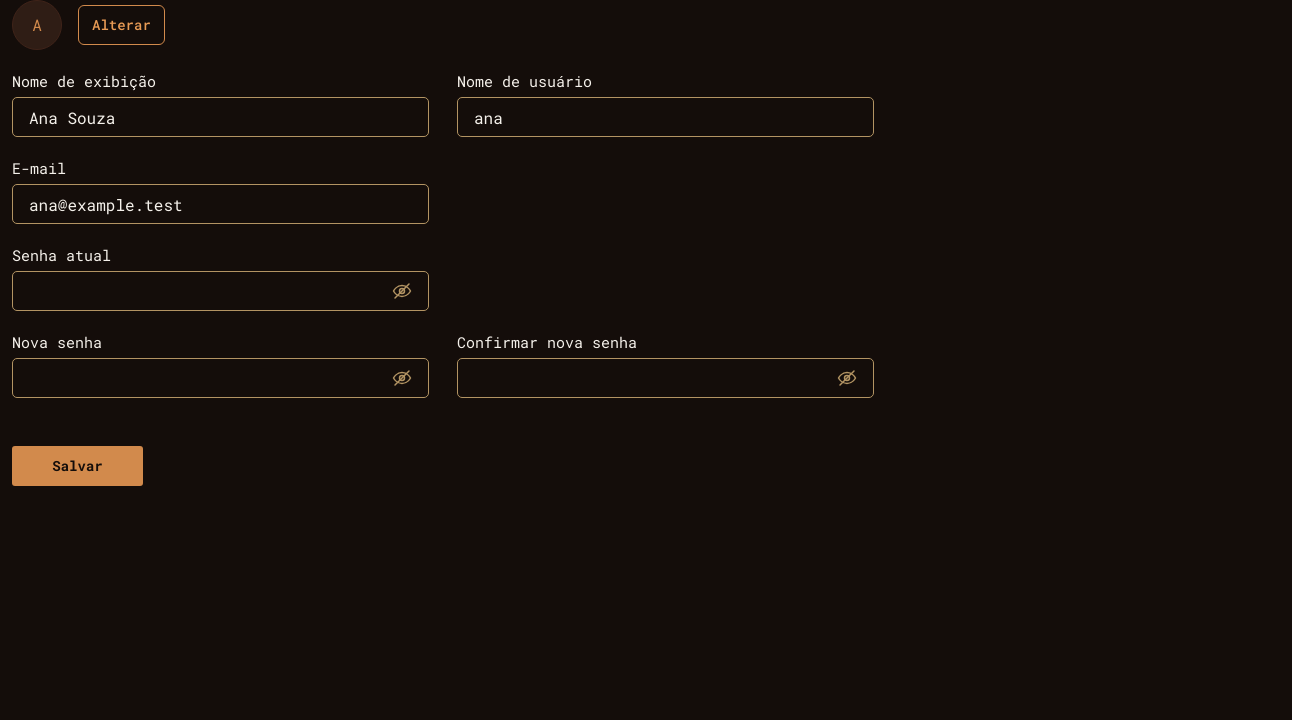
Test case: ProfileEditor (pt-BR) › falha de rede mostra alerta e mantem os valores digitados
This screenshot has width=1292, height=720.
Replace the text in the field labelled "Nome de exibição" with "Ana Maria" at point(220, 117), box x1=29 y1=106 x2=412 y2=128
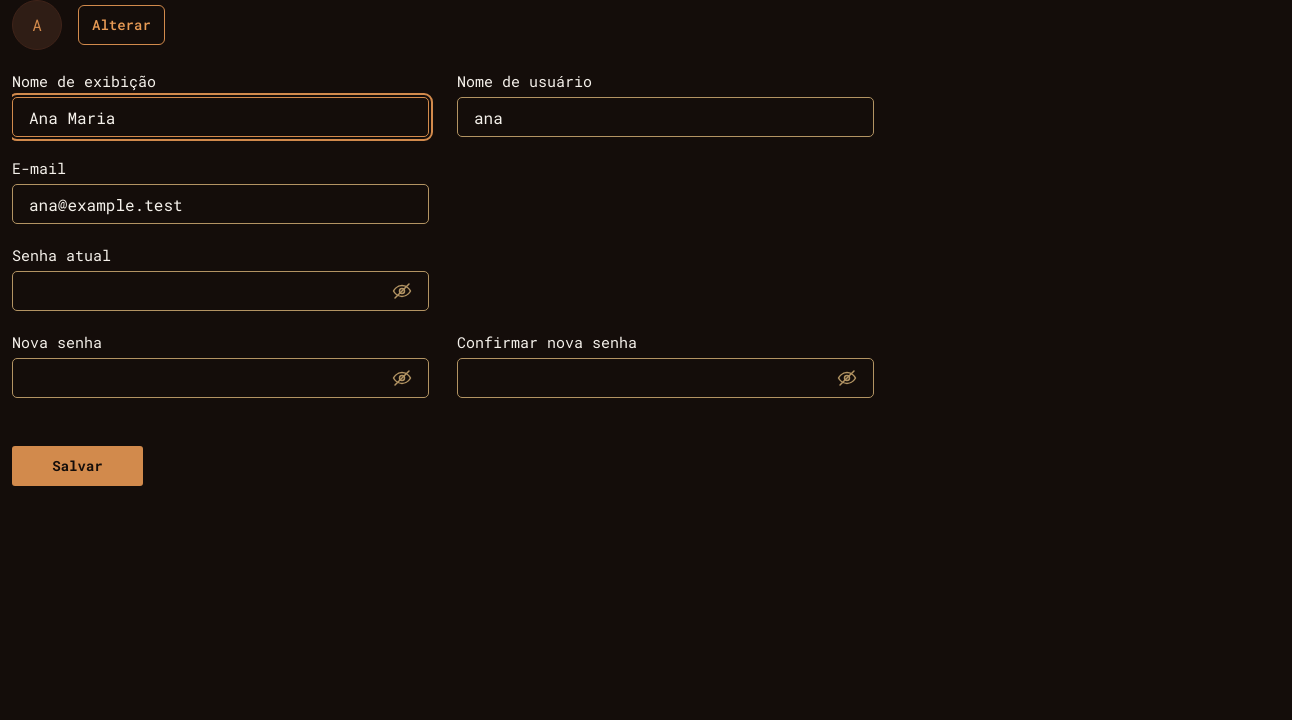
Click the button "Salvar" at point(78, 466), box x1=12 y1=446 x2=143 y2=486
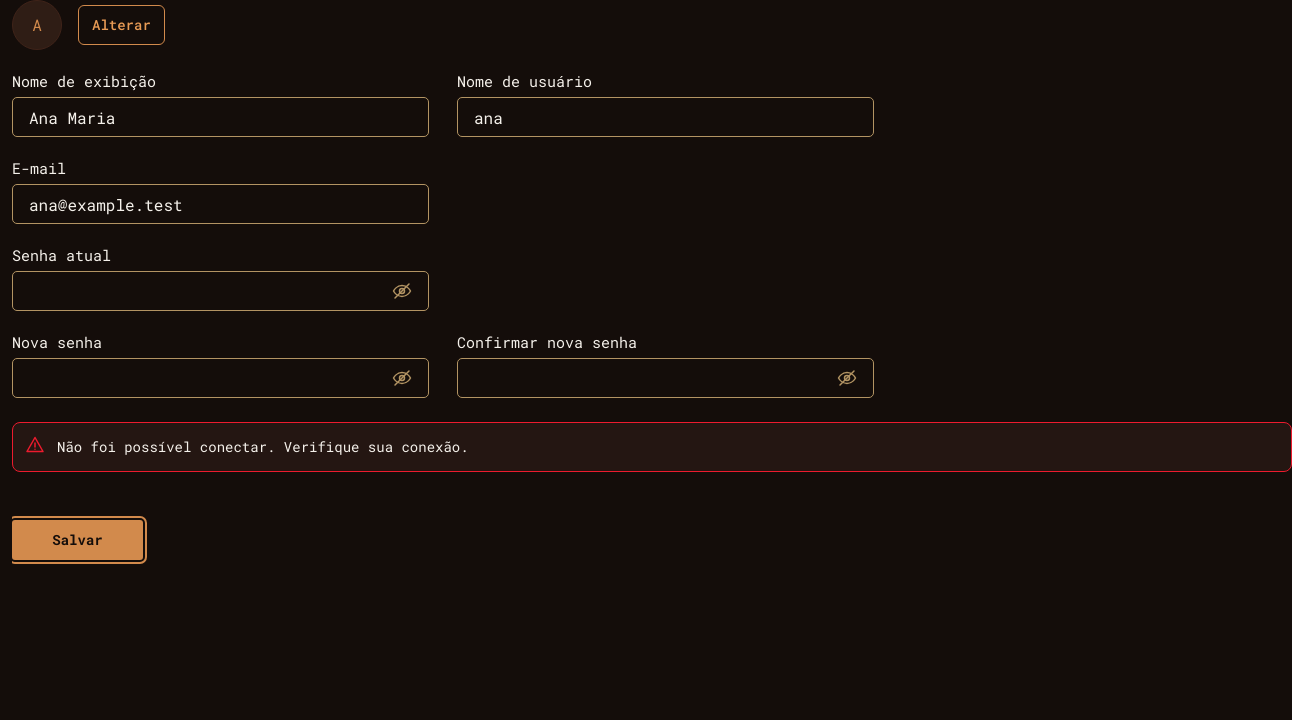
Expected: the message reads "Não foi possível conectar. Verifique sua conexão.", x1=57 y1=437 x2=469 y2=456
